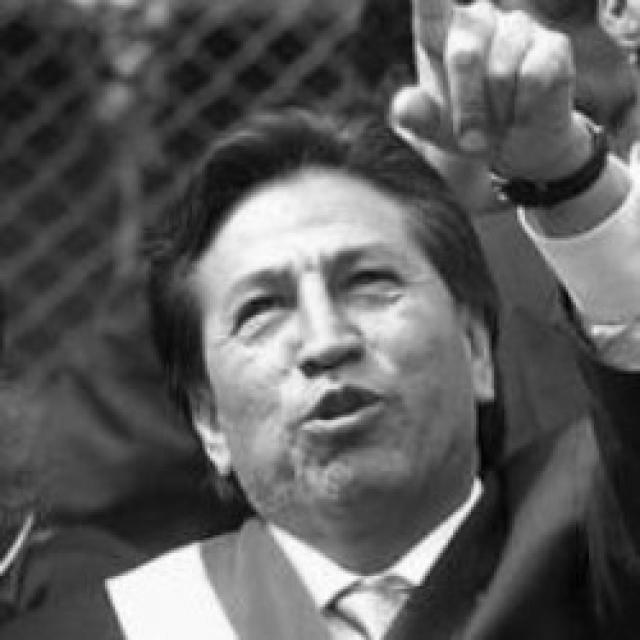real: (200, 179, 472, 516), (232, 264, 408, 338)
